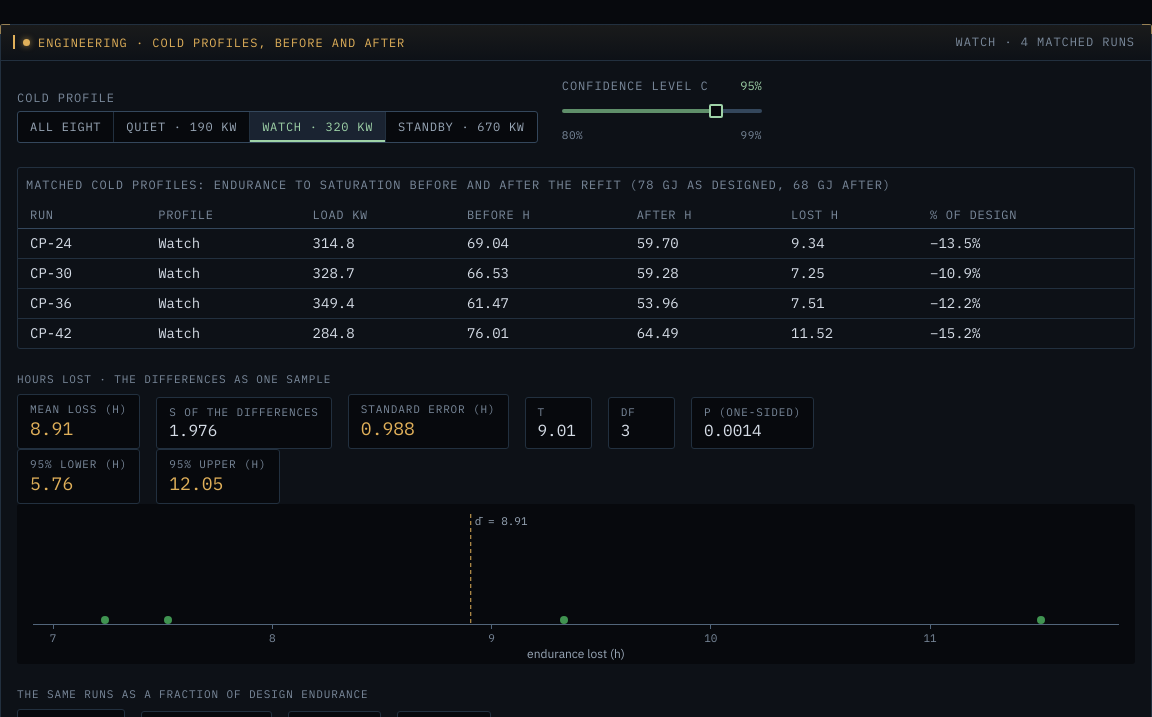
Scenario: <SinkRefitPanel> (act-7-04) › refuses to invent a standard error for the single Standby run
Step 1. Click the radio button labelled "Standby · 670 kW" → coordinates (461, 127), box x1=386 y1=112 x2=537 y2=142
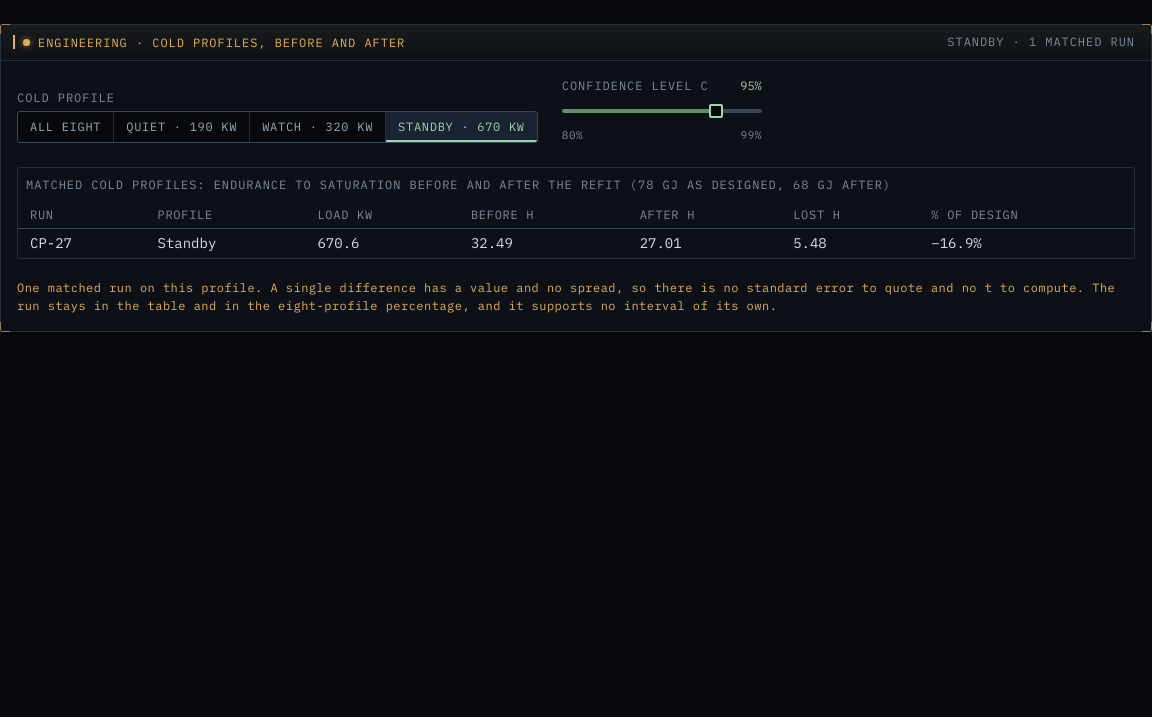
Now the text "One matched run on this profile" is shown, box x1=17 y1=280 x2=1115 y2=313
Now the text "mean loss (h)" is gone
